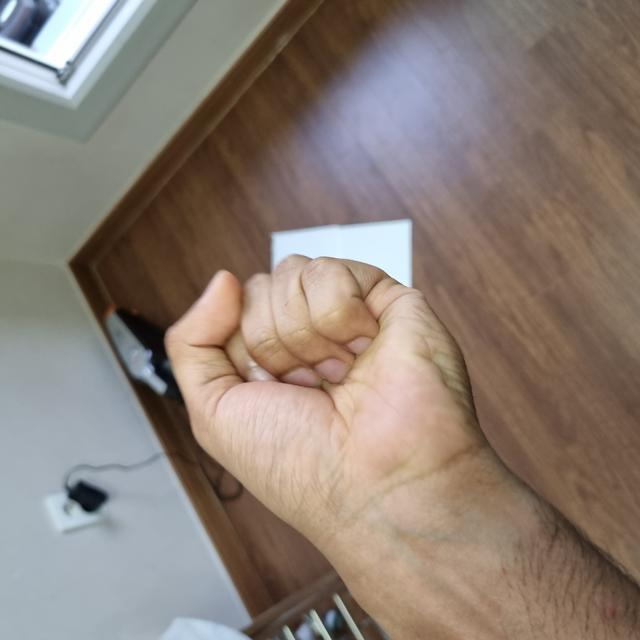Rock: (98, 171, 369, 475)
